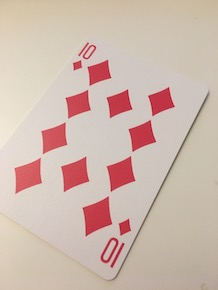TenOfDiamonds: (1, 34, 211, 280)
